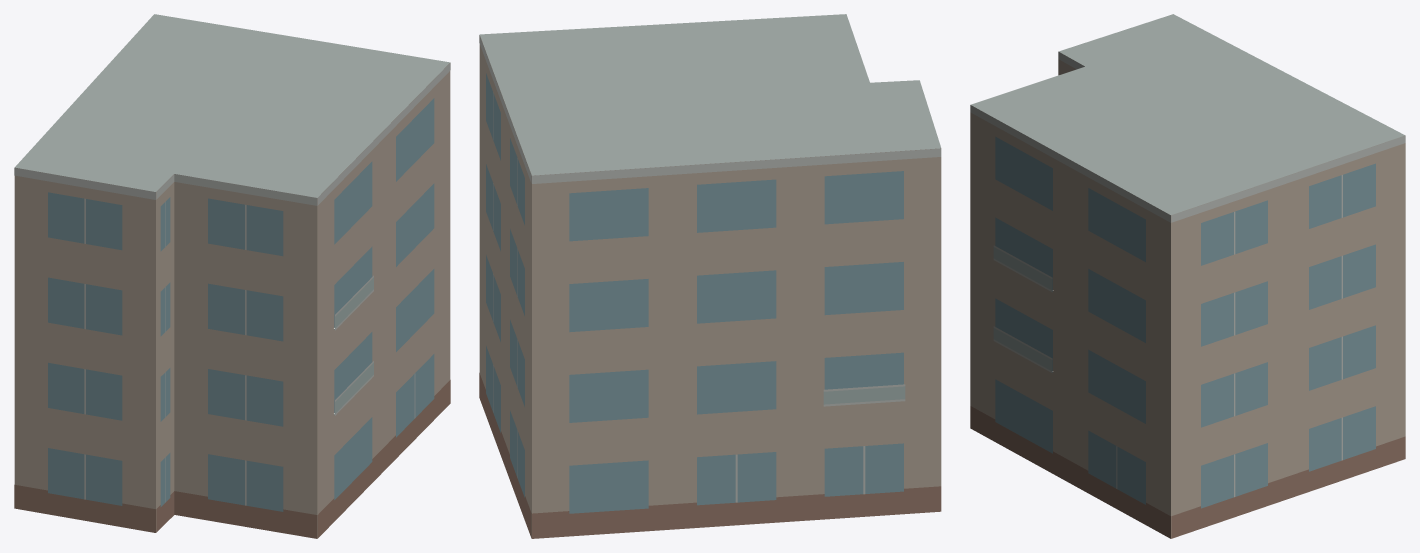
Rendered from survey-upis-32802682.glb.
The picture shows the model from 3 angles, left to right: view 1: azimuth 30°, elevation 25°; view 2: azimuth 150°, elevation 25°; view 3: azimuth 270°, elevation 25°; orthographic projection. The views are drawn at different scales.
Parts seen in each view (by area): view 1: survey-upis-32802682.tmp; view 2: survey-upis-32802682.tmp; view 3: survey-upis-32802682.tmp.
Boxes of the visible parts, <box> form: survey-upis-32802682.tmp: <box>14,14,450,538</box>; survey-upis-32802682.tmp: <box>479,14,941,538</box>; survey-upis-32802682.tmp: <box>970,14,1405,538</box>.
Bounding box in the file's own units: 13.89 × 10.4 × 12.68.
